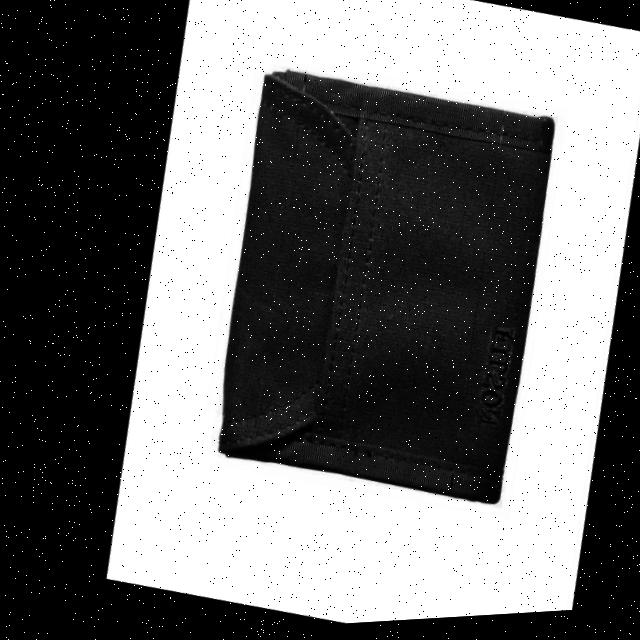cuzdan: (135, 28, 608, 556)
